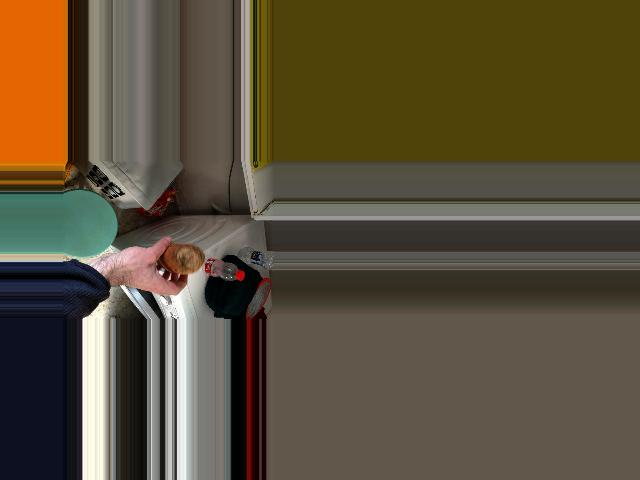sweet_potato: (151, 239, 203, 281)
